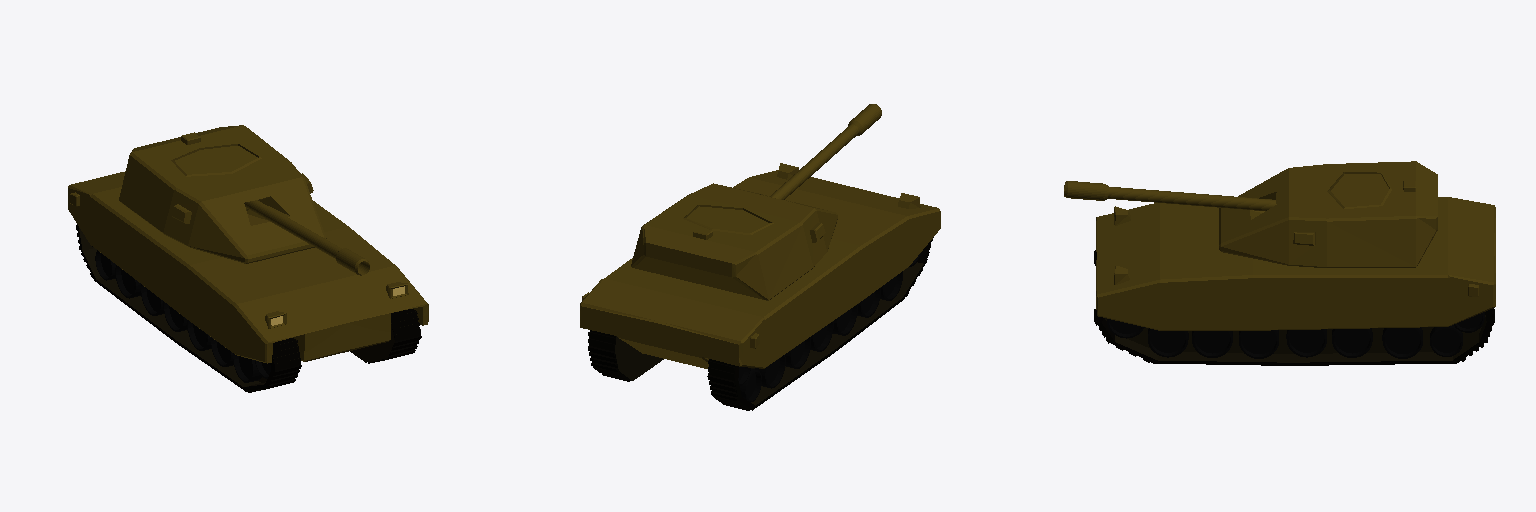
File: Tank.obj
The picture shows the model from 3 angles: view 1: azimuth 30°, elevation 25°; view 2: azimuth 150°, elevation 25°; view 3: azimuth 270°, elevation 25°; orthographic projection.
Visible parts, largest first — view 1: Box001_Box001Mesh, Box002_Box002Mesh, Box003_Box003Mesh, Cylinder001_Cylinder001Mesh, Cylinder008_Cylinder008Mesh; view 2: Box001_Box001Mesh, Box002_Box002Mesh, Box003_Box003Mesh, Cylinder001_Cylinder001Mesh, Cylinder016_Cylinder016Mesh; view 3: Box001_Box001Mesh, Box002_Box002Mesh, Box003_Box003Mesh, Cylinder001_Cylinder001Mesh, Cylinder016_Cylinder016Mesh, Cylinder017_Cylinder017Mesh, Cylinder010_Cylinder010Mesh, Cylinder018_Cylinder018Mesh, Cylinder009_Cylinder009Mesh, Cylinder008_Cylinder008Mesh, Cylinder003_Cylinder003Mesh.
Boxes of the visible parts, x1=… form: Box001_Box001Mesh: x1=68, y1=171, x2=428, y2=363; Box002_Box002Mesh: x1=119, y1=125, x2=326, y2=263; Box003_Box003Mesh: x1=76, y1=224, x2=421, y2=392; Cylinder001_Cylinder001Mesh: x1=244, y1=200, x2=369, y2=275; Cylinder008_Cylinder008Mesh: x1=233, y1=353, x2=261, y2=382; Box001_Box001Mesh: x1=580, y1=163, x2=940, y2=368; Box002_Box002Mesh: x1=631, y1=183, x2=837, y2=300; Box003_Box003Mesh: x1=588, y1=237, x2=933, y2=410; Cylinder001_Cylinder001Mesh: x1=770, y1=104, x2=881, y2=199; Cylinder016_Cylinder016Mesh: x1=755, y1=355, x2=785, y2=388; Box001_Box001Mesh: x1=1096, y1=197, x2=1495, y2=330; Box002_Box002Mesh: x1=1219, y1=161, x2=1437, y2=267; Box003_Box003Mesh: x1=1094, y1=250, x2=1494, y2=365; Cylinder001_Cylinder001Mesh: x1=1064, y1=181, x2=1276, y2=210; Cylinder016_Cylinder016Mesh: x1=1382, y1=327, x2=1422, y2=358; Cylinder017_Cylinder017Mesh: x1=1332, y1=328, x2=1372, y2=357; Cylinder010_Cylinder010Mesh: x1=1239, y1=330, x2=1278, y2=358; Cylinder018_Cylinder018Mesh: x1=1286, y1=329, x2=1326, y2=357; Cylinder009_Cylinder009Mesh: x1=1192, y1=331, x2=1232, y2=357; Cylinder008_Cylinder008Mesh: x1=1148, y1=328, x2=1188, y2=357; Cylinder003_Cylinder003Mesh: x1=1430, y1=325, x2=1462, y2=356.
Size of the model in its own units: 1.5 by 1.22 by 3.22.